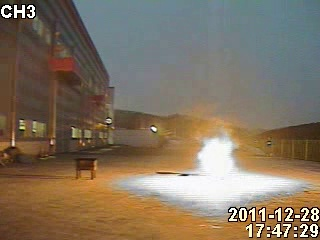fire: (195, 137, 227, 174)
